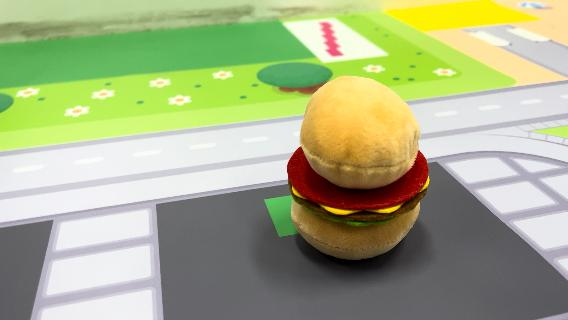burger: (284, 72, 434, 262)
